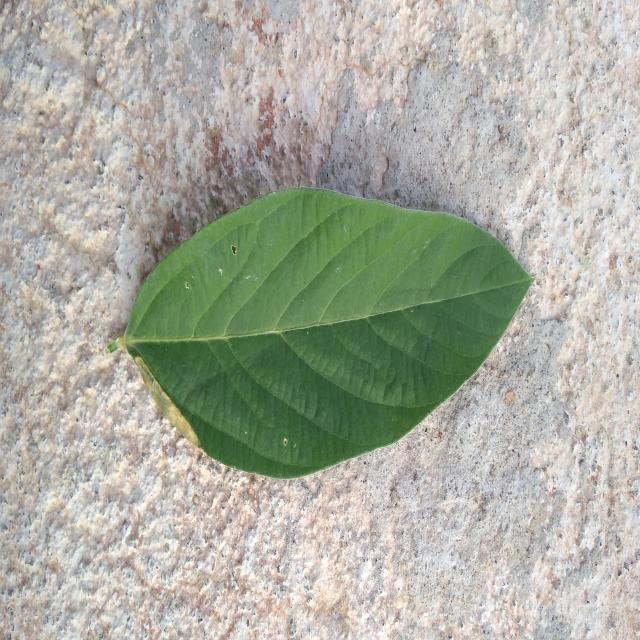pea: (109, 189, 532, 478)
